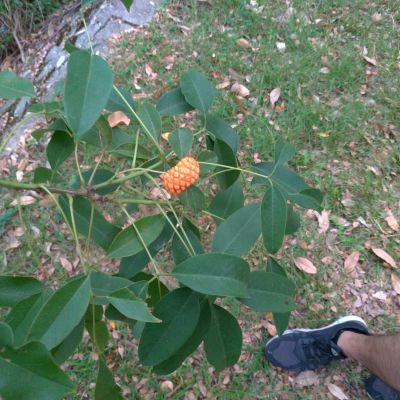eggs: (159, 154, 201, 195)
